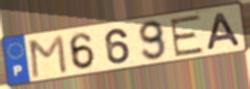6: (67, 31, 96, 72), (103, 27, 133, 65)
9: (136, 19, 169, 63)
A: (205, 10, 244, 52)
E: (168, 13, 206, 59)
M: (28, 33, 70, 80)
